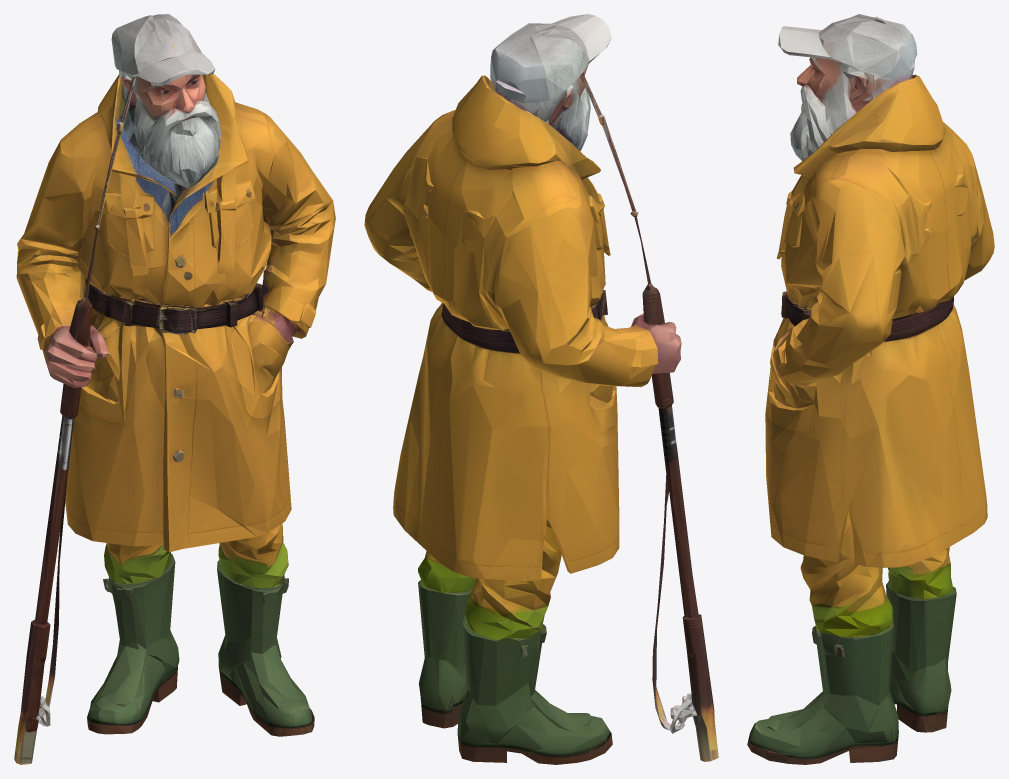
Rendered from npc_fisher.glb.
3 renders of one model, left to right at view 1: azimuth 30°, elevation 25°; view 2: azimuth 150°, elevation 25°; view 3: azimuth 270°, elevation 25°, orthographic. The views are drawn at different scales.
Bounding box in the file's own units: 0.9376 × 1.9 × 0.615.
Materials: 1 (1 with a texture image).
